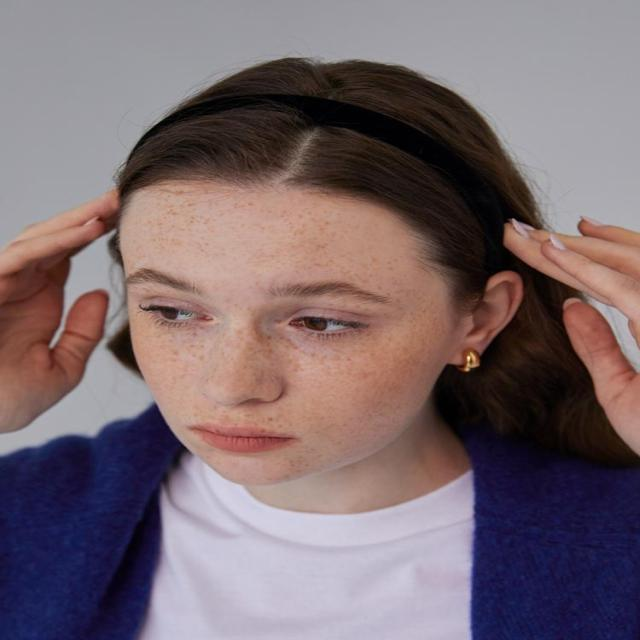freckle: (138, 196, 405, 282), (262, 333, 415, 448), (148, 327, 248, 425)
